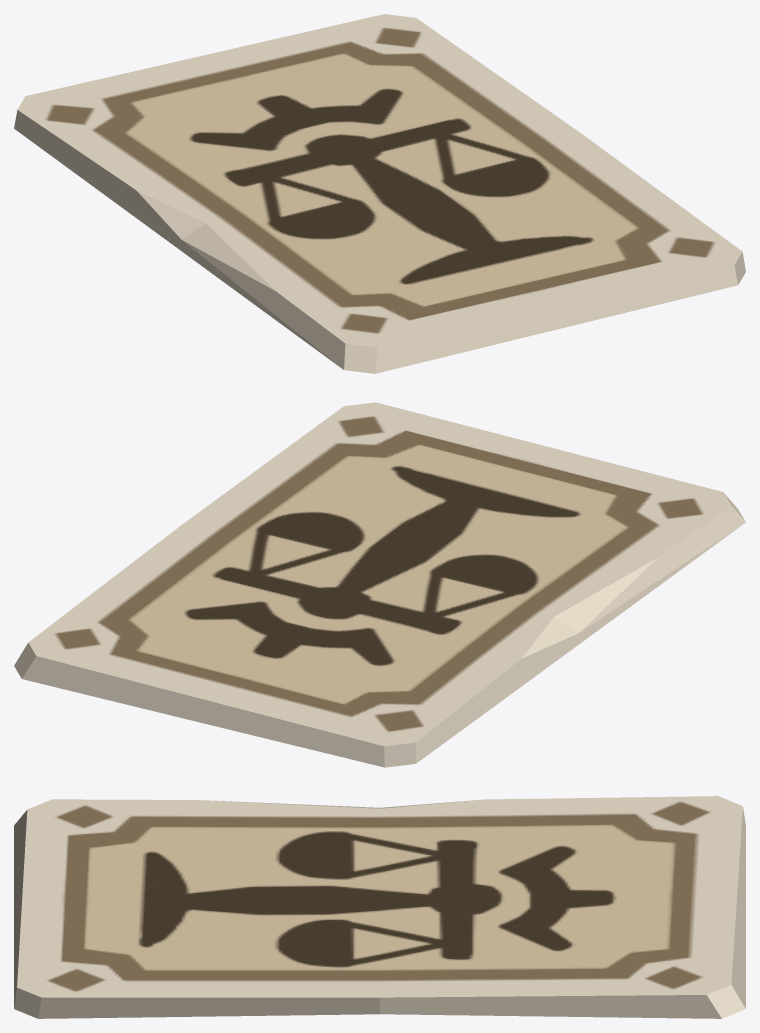
Rendered from SM_Prop_Tarot_Card_15.fbx.
The picture shows the model from 3 angles, top to bottom: view 1: azimuth 30°, elevation 25°; view 2: azimuth 150°, elevation 25°; view 3: azimuth 270°, elevation 25°; orthographic projection. The views are drawn at different scales.
Visible parts, largest first — view 1: SM_Prop_Tarot_Card_15; view 2: SM_Prop_Tarot_Card_15; view 3: SM_Prop_Tarot_Card_15.
Part boxes in pixels (box(x1,y1,x2,y2)): SM_Prop_Tarot_Card_15: box(14, 14, 745, 373); SM_Prop_Tarot_Card_15: box(14, 402, 745, 767); SM_Prop_Tarot_Card_15: box(14, 796, 745, 1018).
Bounding box in the file's own units: 13.22 × 0.62 × 20.12.
